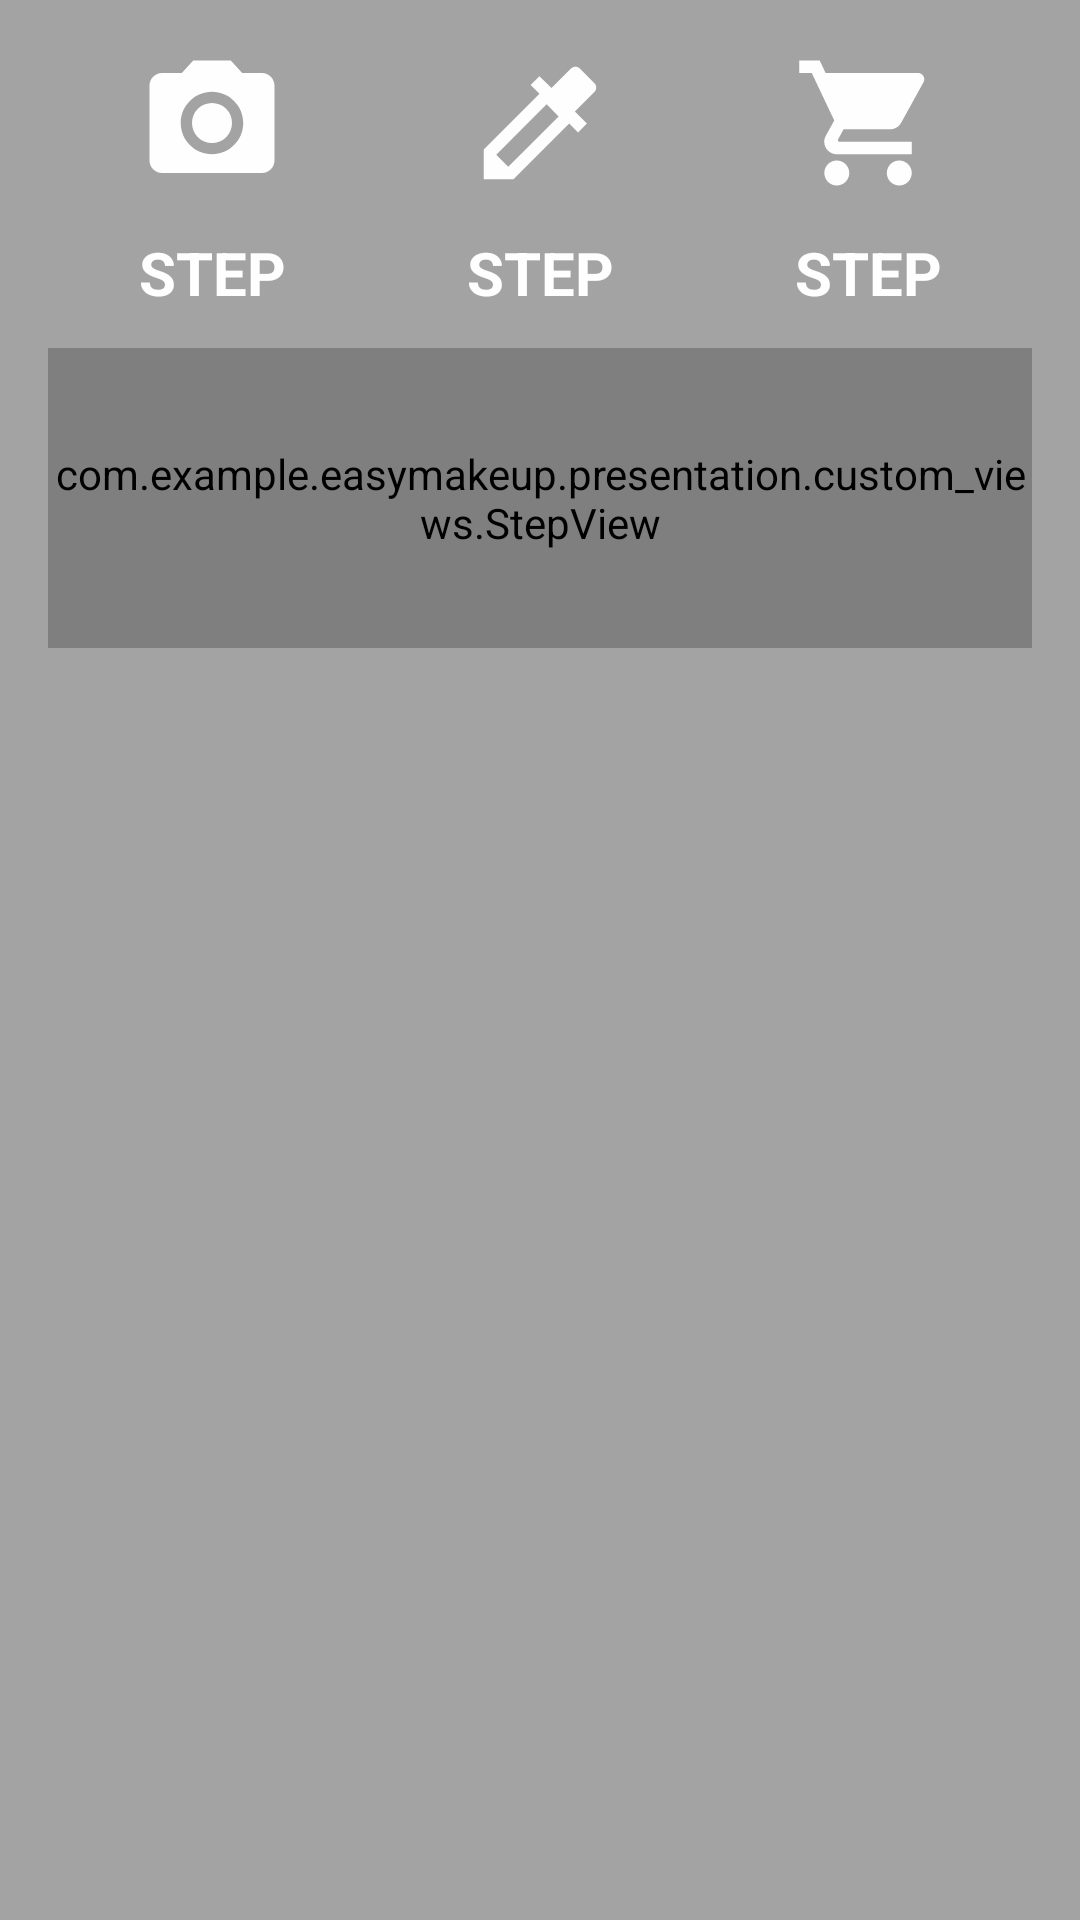

Icons on this 1080 × 1920 Android screen, each with its box as (x1, y1, x2, y2):
camera: (149, 60, 275, 173)
cart: (799, 60, 924, 186)
picker: (484, 67, 596, 179)
